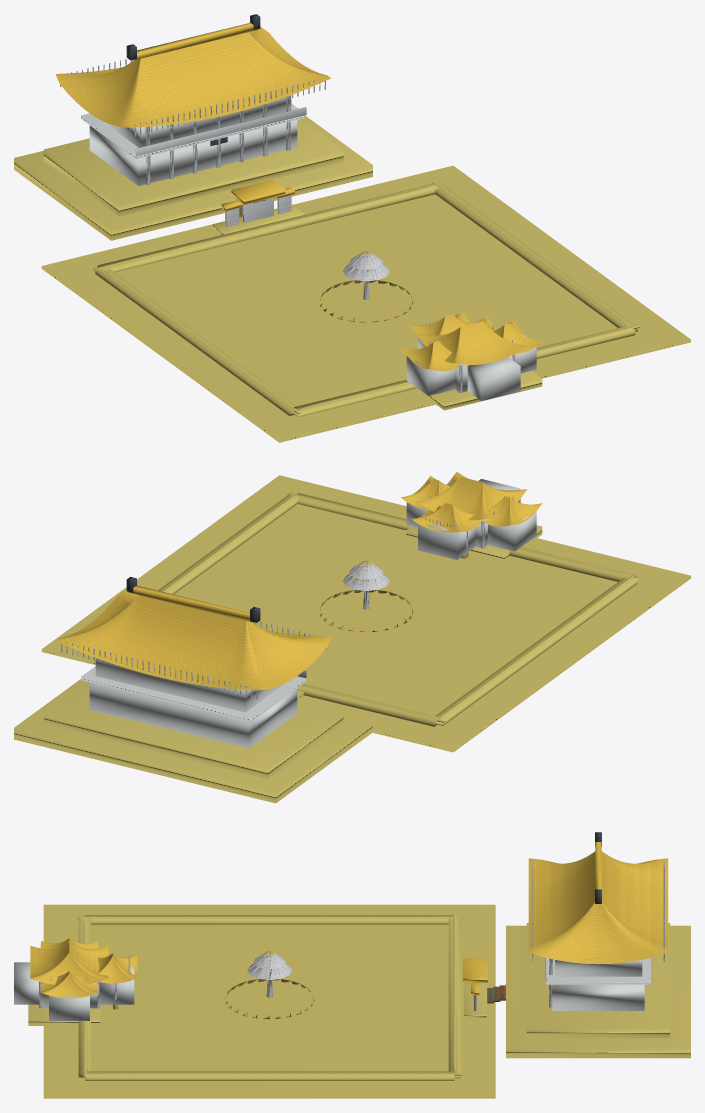
The picture shows the model from 3 angles, top to bottom: view 1: azimuth 30°, elevation 25°; view 2: azimuth 150°, elevation 25°; view 3: azimuth 270°, elevation 25°; orthographic projection. The views are drawn at different scales.
Parts seen in each view (by area): view 1: buyongji_pond_and_island, juhapru_two_story_pavilion, juhapru_paljak_roof, buyongjeong_cross_roofs, buyongjeong_cross_pavilion, eosumun_three_arch_gate; view 2: buyongji_pond_and_island, juhapru_two_story_pavilion, juhapru_paljak_roof, buyongjeong_cross_roofs, buyongjeong_cross_pavilion; view 3: buyongji_pond_and_island, juhapru_two_story_pavilion, juhapru_paljak_roof, buyongjeong_cross_roofs, buyongjeong_cross_pavilion, eosumun_three_arch_gate.
Part boxes in pixels (bbox=[...]): buyongji_pond_and_island: bbox=[41, 165, 690, 442]; juhapru_two_story_pavilion: bbox=[14, 95, 372, 240]; juhapru_paljak_roof: bbox=[55, 14, 331, 137]; buyongjeong_cross_roofs: bbox=[401, 312, 542, 371]; buyongjeong_cross_pavilion: bbox=[406, 334, 542, 410]; eosumun_three_arch_gate: bbox=[212, 179, 303, 234]; buyongji_pond_and_island: bbox=[41, 475, 690, 752]; juhapru_two_story_pavilion: bbox=[14, 658, 372, 803]; juhapru_paljak_roof: bbox=[56, 577, 331, 700]; buyongjeong_cross_roofs: bbox=[401, 471, 542, 532]; buyongjeong_cross_pavilion: bbox=[406, 479, 542, 559]; buyongji_pond_and_island: bbox=[43, 904, 495, 1098]; juhapru_two_story_pavilion: bbox=[487, 923, 690, 1058]; juhapru_paljak_roof: bbox=[528, 832, 668, 964]; buyongjeong_cross_roofs: bbox=[30, 938, 137, 998]; buyongjeong_cross_pavilion: bbox=[14, 962, 134, 1025]; eosumun_three_arch_gate: bbox=[463, 958, 487, 1017].
Bounding box in the file's own units: 44 × 15.2 × 65.9.
Materials: 4 (4 with a texture image).
